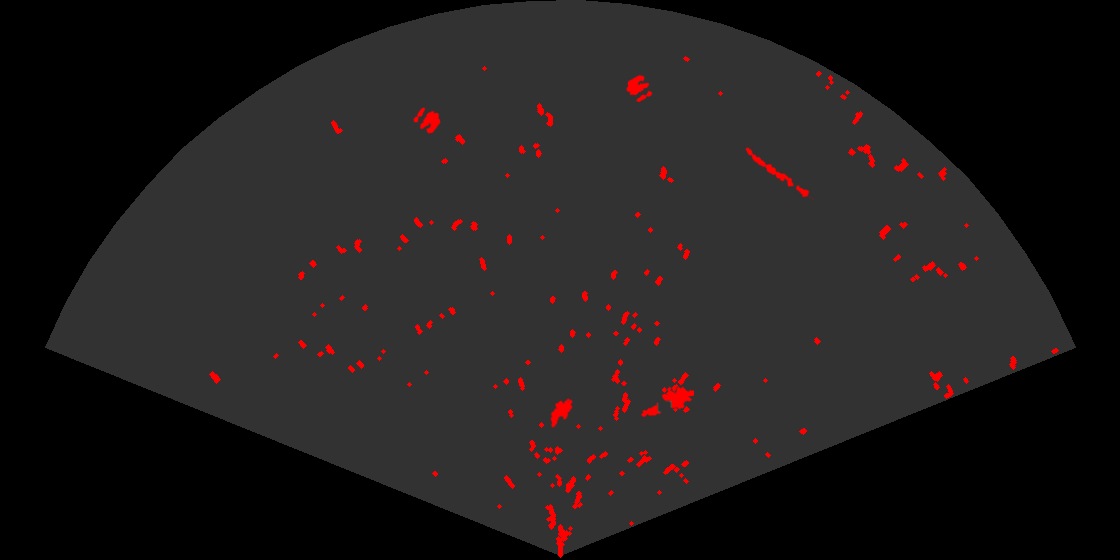AUV: (548, 396, 574, 429)
ball: (625, 73, 654, 104), (412, 106, 442, 135)
chain: (744, 146, 814, 202)
frogman: (639, 385, 694, 418)
